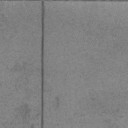surface scratch: (41, 1, 44, 128), (108, 0, 128, 2)
